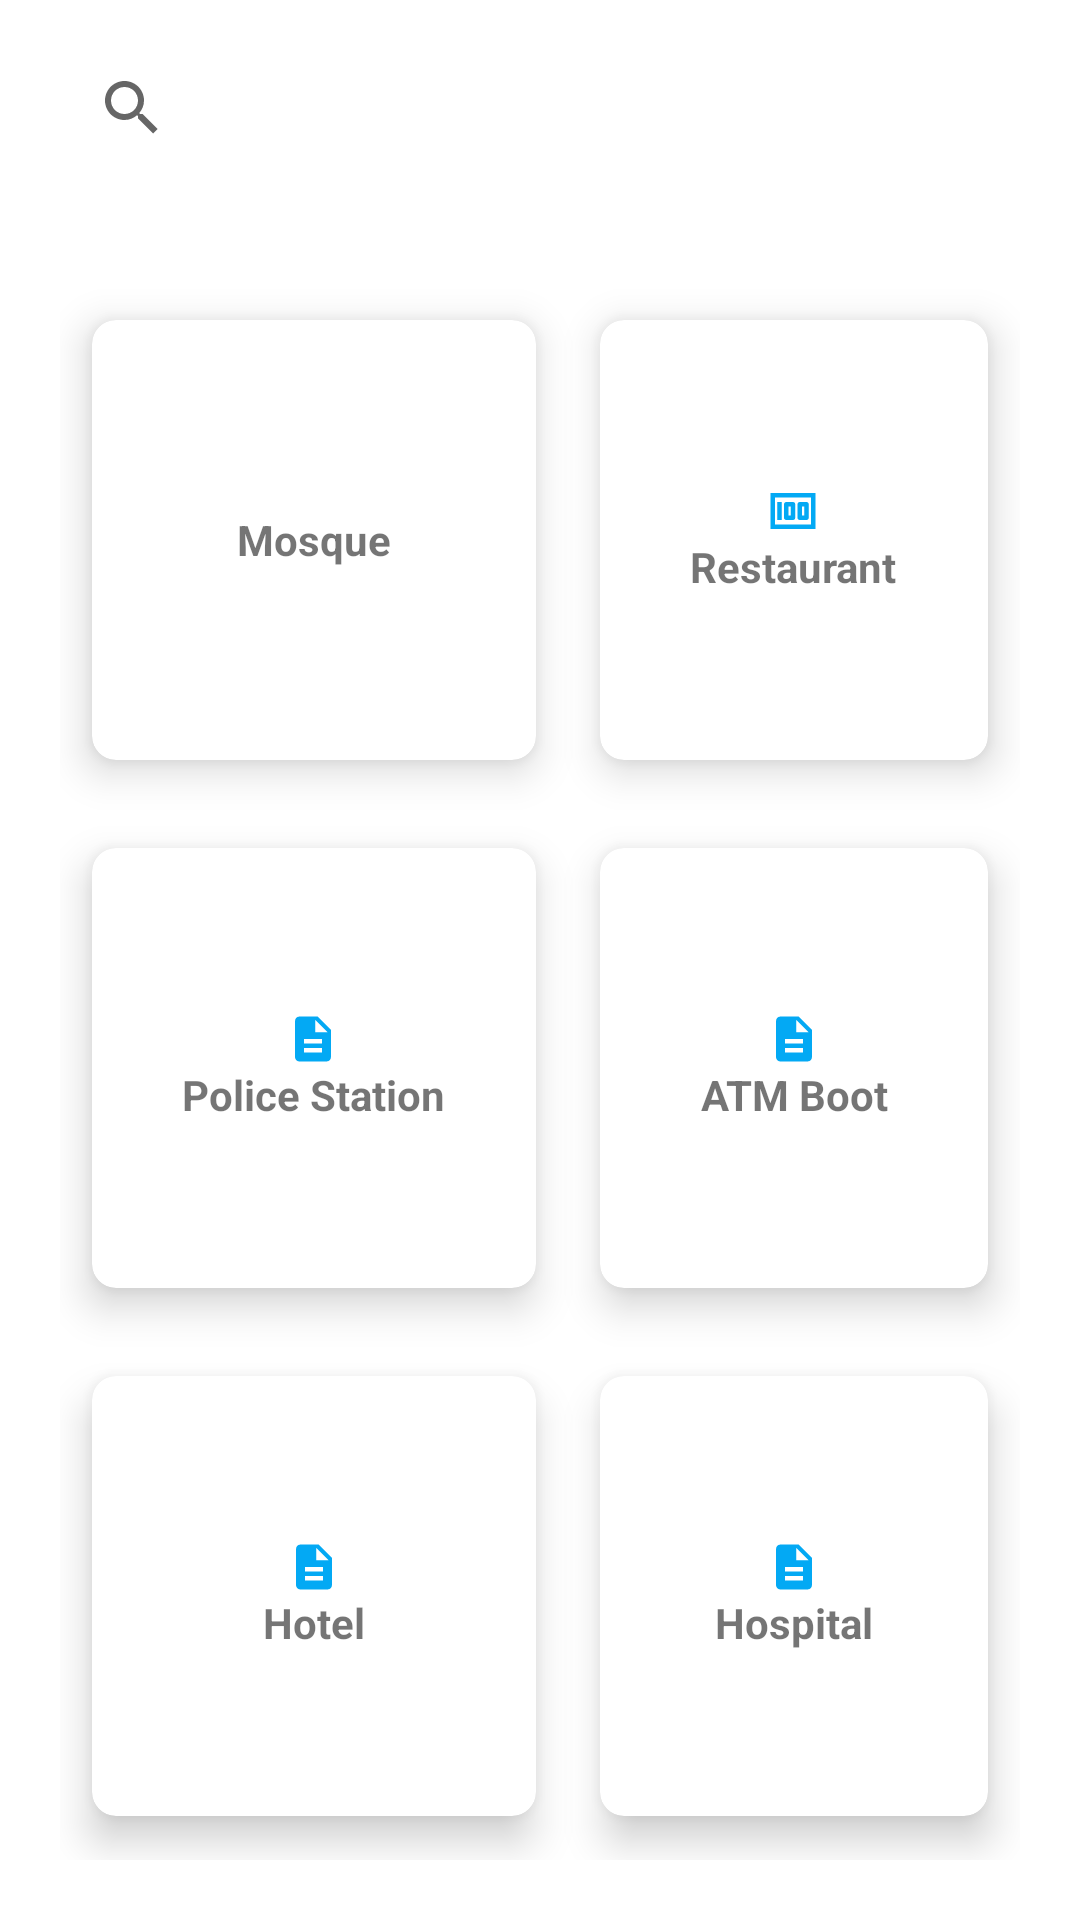

Point at icon controls on the screen. Image size 1080 x 1920, points as (x,y).
description: (313,1039), (794,1039), (314,1567), (794,1567)
money: (793,511)
